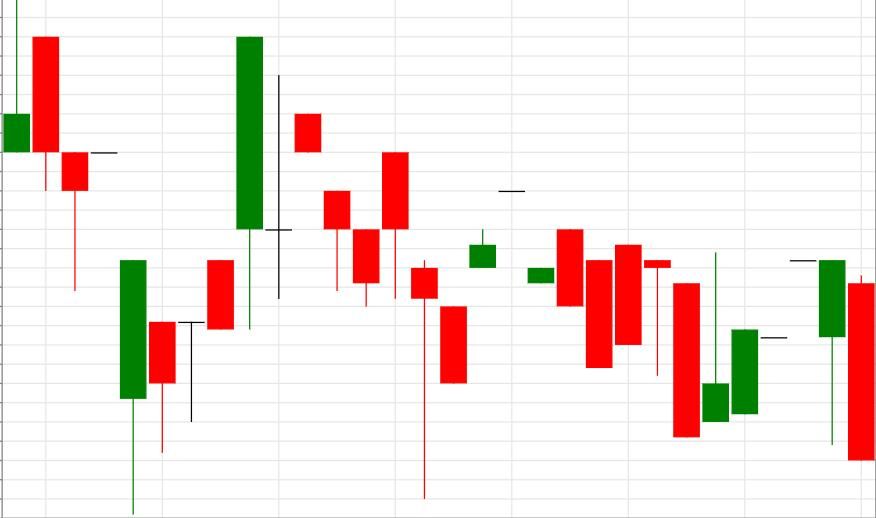hammer_rise: (293, 113, 438, 498)
inverse_hammer_rise: (557, 229, 729, 438)
